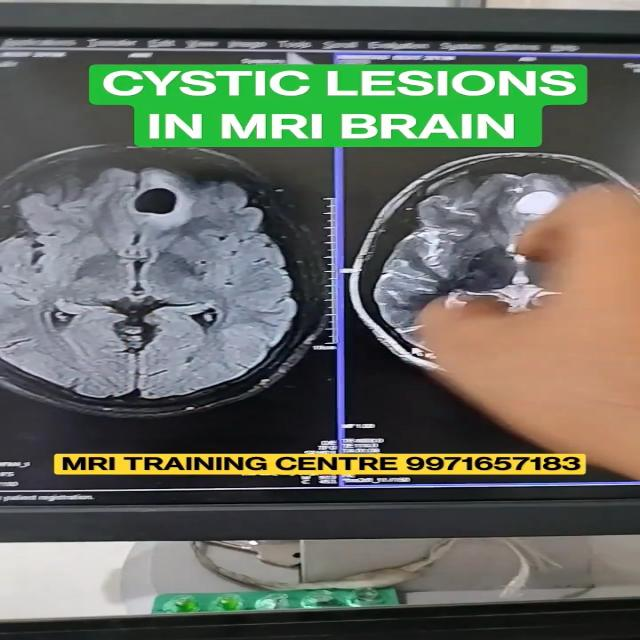tumor: (498, 182, 640, 227), (113, 176, 219, 227)
